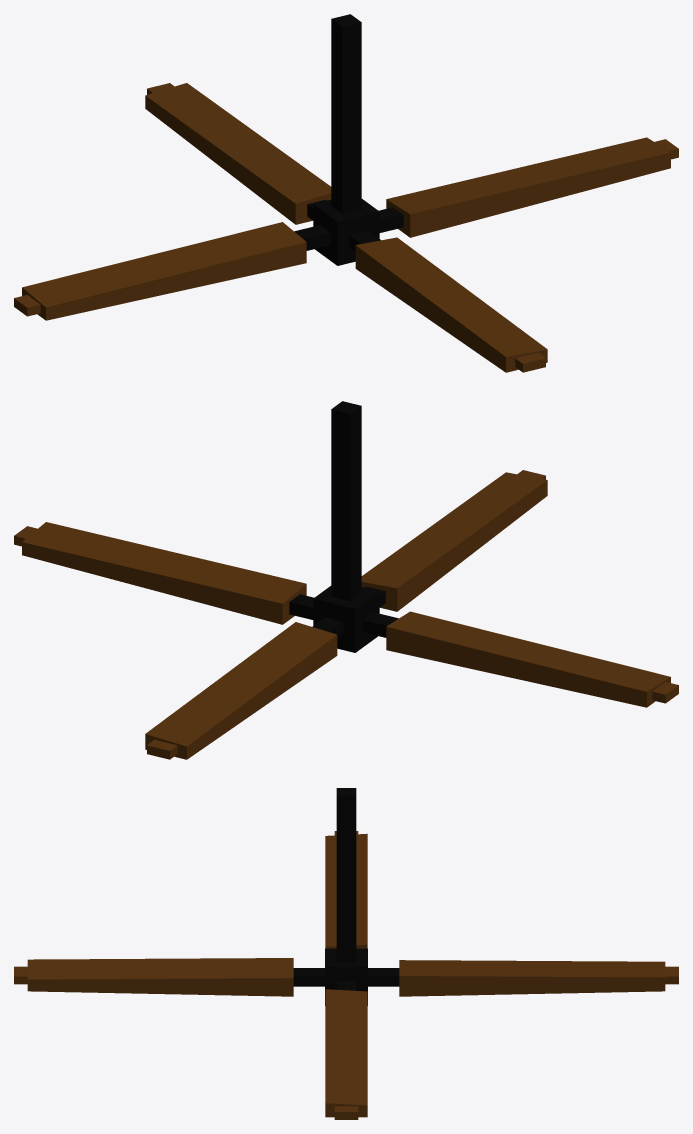
Rendered from fan15.glb.
3 renders of one model, top to bottom at view 1: azimuth 30°, elevation 25°; view 2: azimuth 150°, elevation 25°; view 3: azimuth 270°, elevation 25°, orthographic. The views are drawn at different scales.
Visible parts, largest first — view 1: Fan15_Tris; view 2: Fan15_Tris; view 3: Fan15_Tris.
Boxes of the visible parts, x1,y1,x2,y2 form: Fan15_Tris: (14, 14, 678, 372); Fan15_Tris: (14, 401, 678, 759); Fan15_Tris: (14, 788, 678, 1119).
Bounding box in the file's own units: 6.08 × 2.06 × 6.08.
